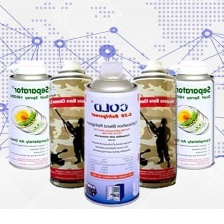aerosol_cans: (80, 59, 143, 208), (126, 57, 180, 189), (45, 56, 96, 191), (4, 57, 58, 171), (168, 56, 216, 171)
